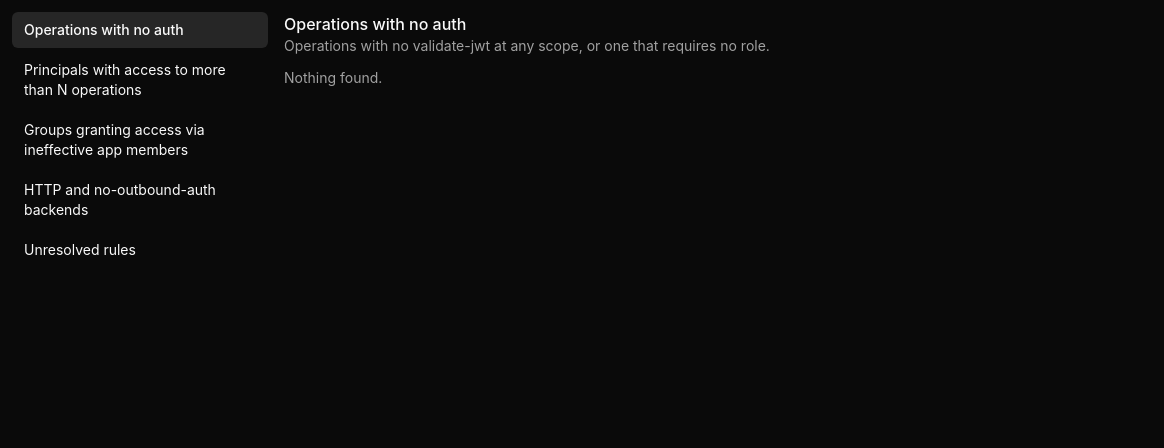
Test: Scripts › opens on the first script, and switches from the list
The width and height of the screenshot is (1164, 448).
Expected: the element "Operations with no auth" shows "Nothing found.", [284,69,382,86]
Click the button "Unresolved rules". click: (140, 250)
box: [12,232,268,268]
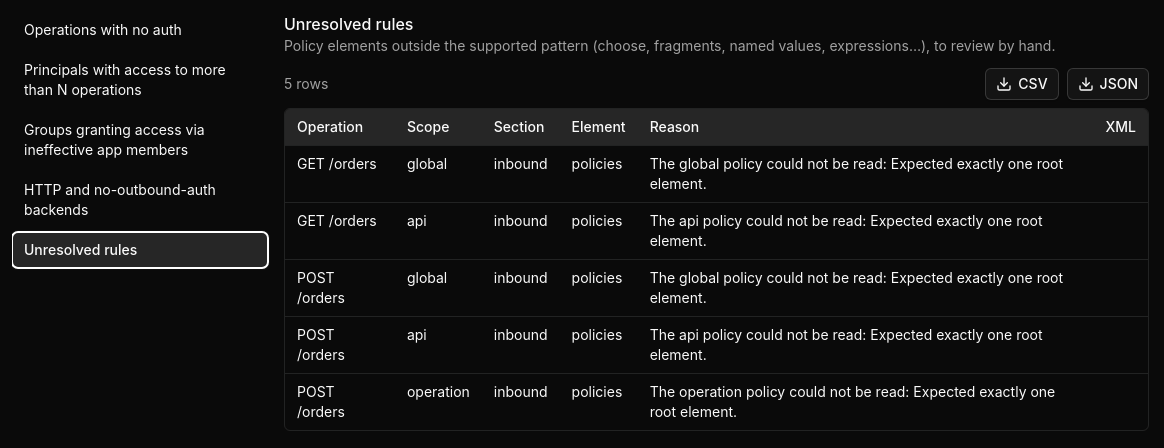
Now the element "Unresolved rules" is shown
